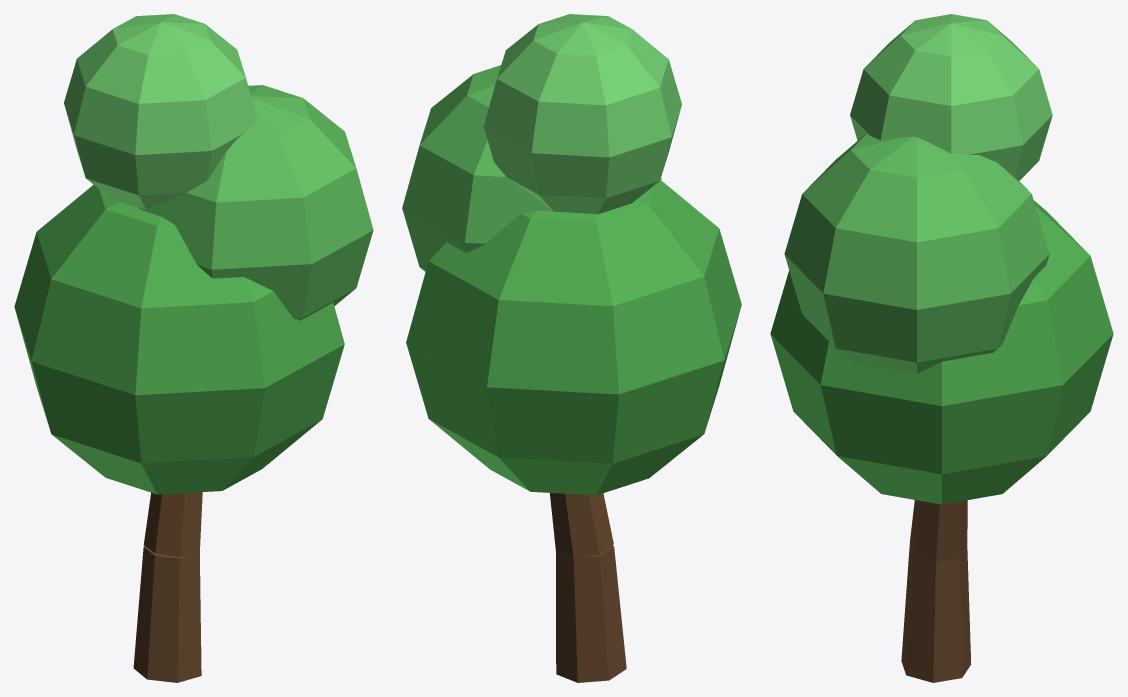
File: tree.glb
3 views of the same model, side by side, from view 1: azimuth 30°, elevation 25°; view 2: azimuth 150°, elevation 25°; view 3: azimuth 270°, elevation 25° (orthographic).
Visible parts, largest first — view 1: tree; view 2: tree; view 3: tree.
Boxes of the visible parts, left/top/right/bottom form: tree: left=14, top=14, right=373, bottom=682; tree: left=402, top=14, right=741, bottom=682; tree: left=770, top=14, right=1113, bottom=682.
Size of the model in its own units: 2.35 by 4.56 by 2.2.
